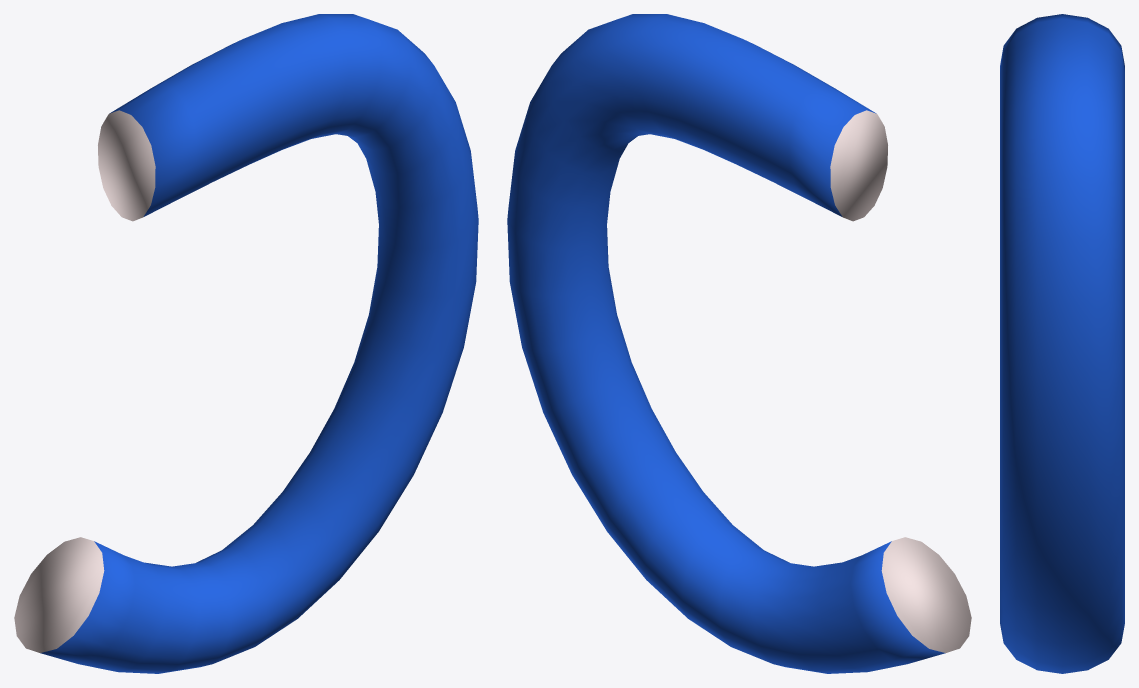
The model's file is Cup01_Handle.fbx.
3 renders of one model, left to right at view 1: azimuth 30°, elevation 25°; view 2: azimuth 150°, elevation 25°; view 3: azimuth 270°, elevation 25°, orthographic. The views are drawn at different scales.
Visible parts, largest first — view 1: Cup01_Handle; view 2: Cup01_Handle; view 3: Cup01_Handle.
Boxes of the visible parts, left/top/right/bottom form: Cup01_Handle: left=14, top=14, right=478, bottom=673; Cup01_Handle: left=507, top=14, right=971, bottom=673; Cup01_Handle: left=1000, top=14, right=1124, bottom=673.
Bounding box in the file's own units: 177 × 233 × 39.87.
